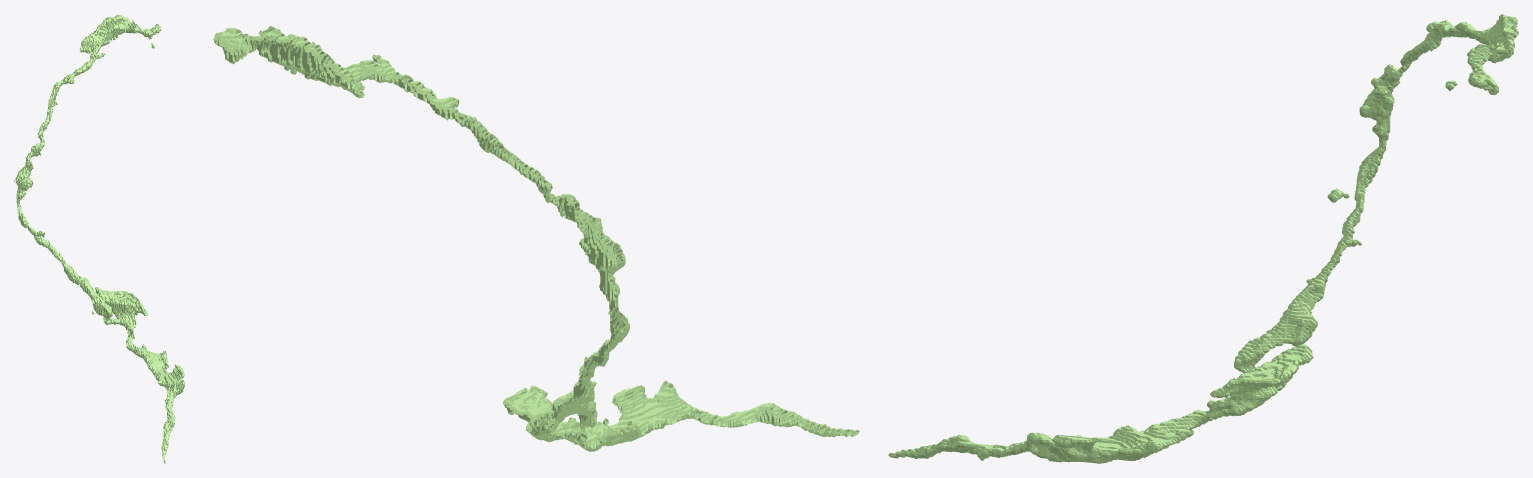
File: SVV_AIZL.gltf
The picture shows the model from 3 angles, left to right: view 1: azimuth 30°, elevation 25°; view 2: azimuth 150°, elevation 25°; view 3: azimuth 270°, elevation 25°; orthographic projection. The views are drawn at different scales.
Visible parts, largest first — view 1: AIZL; view 2: AIZL; view 3: AIZL.
Part boxes in pixels (bbox=[...]): AIZL: bbox=[14, 14, 184, 463]; AIZL: bbox=[213, 26, 859, 451]; AIZL: bbox=[888, 14, 1518, 463].
Size of the model in its own units: 98749 by 159651 by 169154.
